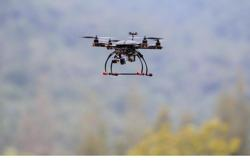UAV: (91, 32, 164, 77)
